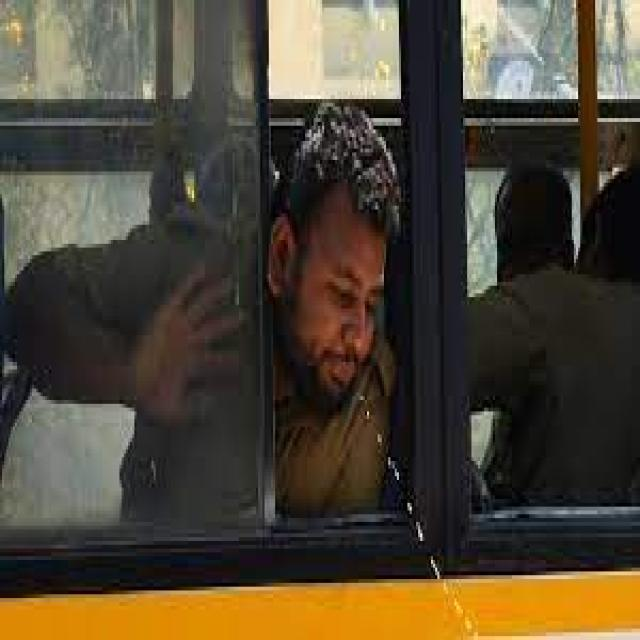Spitting: (265, 96, 406, 504)
